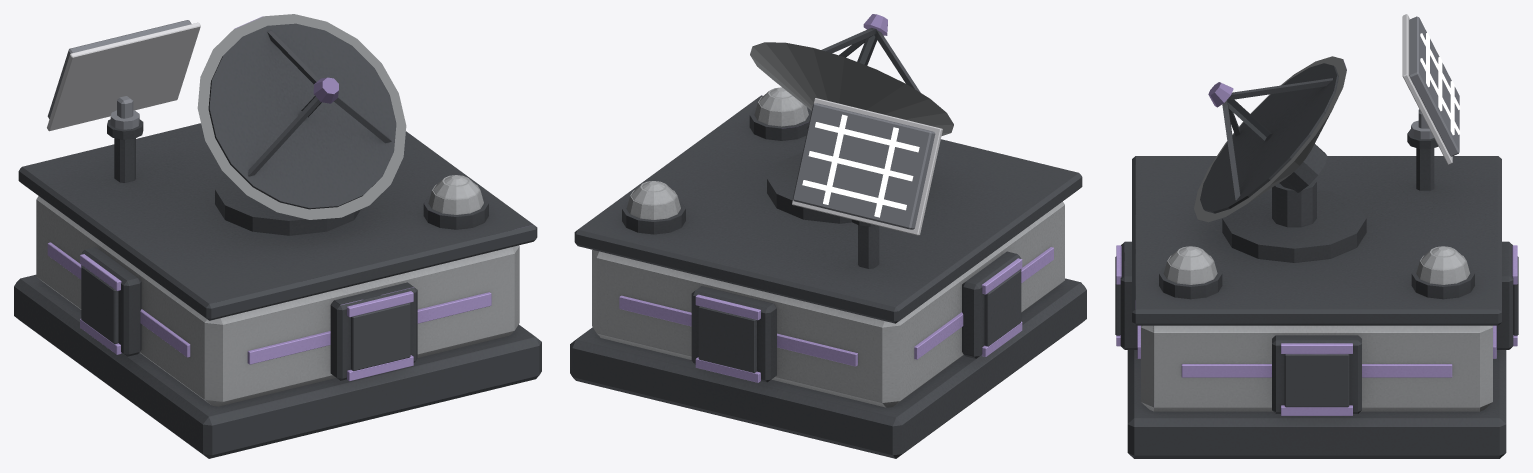
File: SM_SensorArray.fbx
3 renders of one model, left to right at view 1: azimuth 30°, elevation 25°; view 2: azimuth 150°, elevation 25°; view 3: azimuth 270°, elevation 25°, orthographic. The views are drawn at different scales.
Parts seen in each view (by area): view 1: SMN_SensorArray, SpinRadar; view 2: SMN_SensorArray, SpinRadar; view 3: SMN_SensorArray, SpinRadar.
Boxes of the visible parts, x1=… form: SMN_SensorArray: x1=14, y1=14, x2=541, y2=458; SpinRadar: x1=47, y1=20, x2=200, y2=131; SMN_SensorArray: x1=570, y1=14, x2=1086, y2=458; SpinRadar: x1=792, y1=98, x2=942, y2=235; SMN_SensorArray: x1=1115, y1=56, x2=1518, y2=458; SpinRadar: x1=1402, y1=14, x2=1460, y2=164.
Bounding box in the file's own units: 0.894 × 0.7627 × 0.894.
